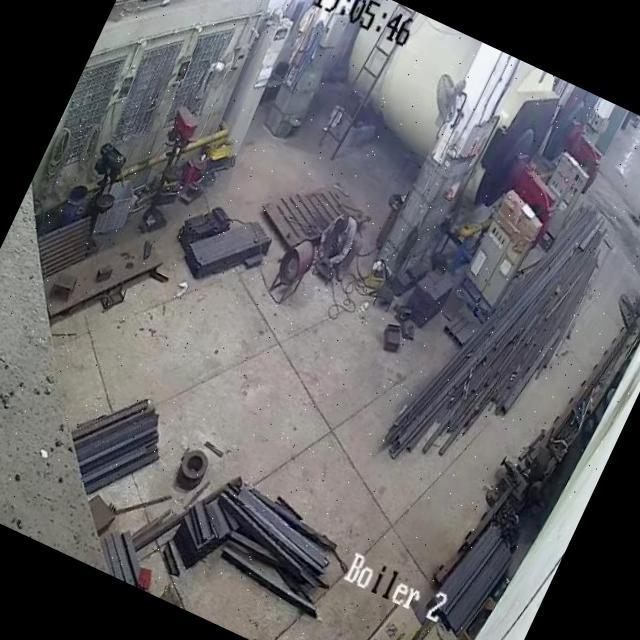person: (309, 207, 364, 281)
